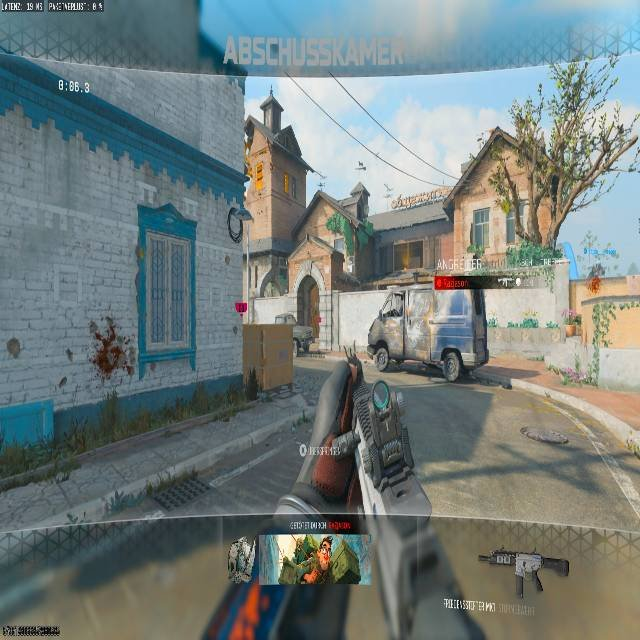player: (588, 261, 605, 293)
